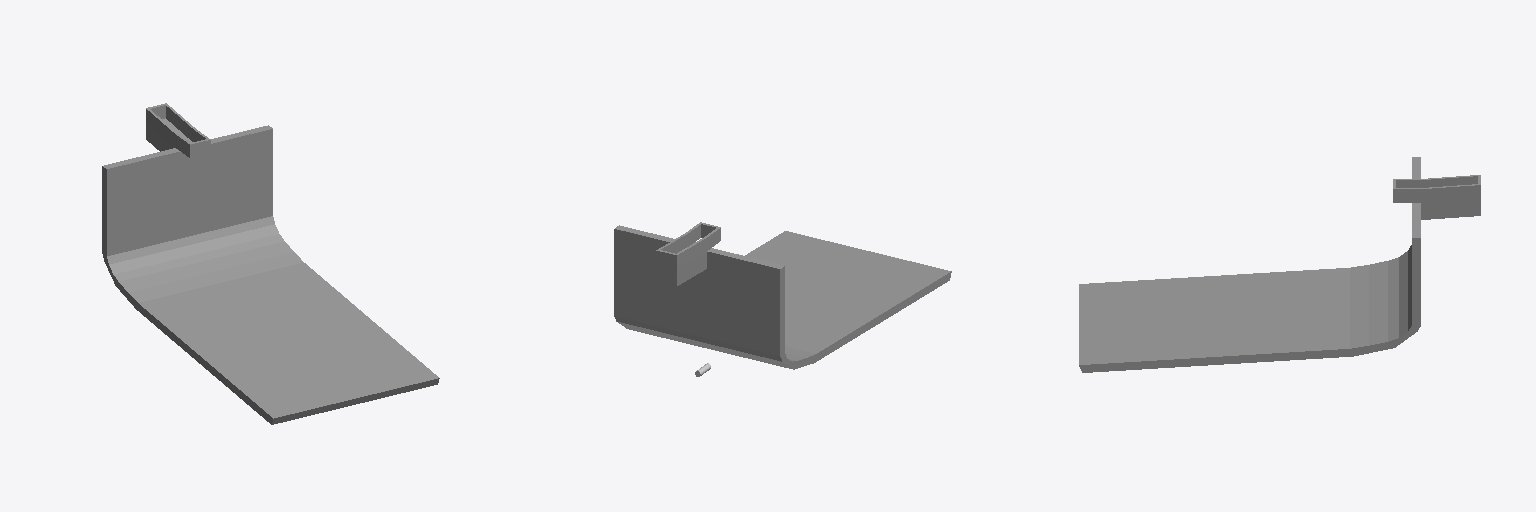
Rendered from ladderbase.obj.
3 views of the same model, side by side, from view 1: azimuth 30°, elevation 25°; view 2: azimuth 150°, elevation 25°; view 3: azimuth 270°, elevation 25° (orthographic).
Visible parts, largest first — view 1: Cube; view 2: Cube; view 3: Cube.
Part boxes in pixels (bbox=[...]): Cube: bbox=[102, 103, 439, 424]; Cube: bbox=[614, 222, 951, 369]; Cube: bbox=[1079, 157, 1480, 372].
Bounding box in the file's own units: 17.93 × 15.77 × 37.58.